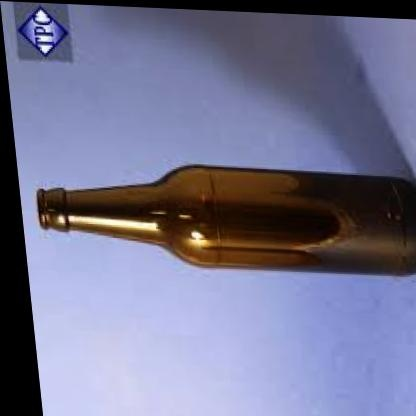trash: (37, 165, 415, 271)
